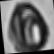correct: (2, 0, 54, 54)
